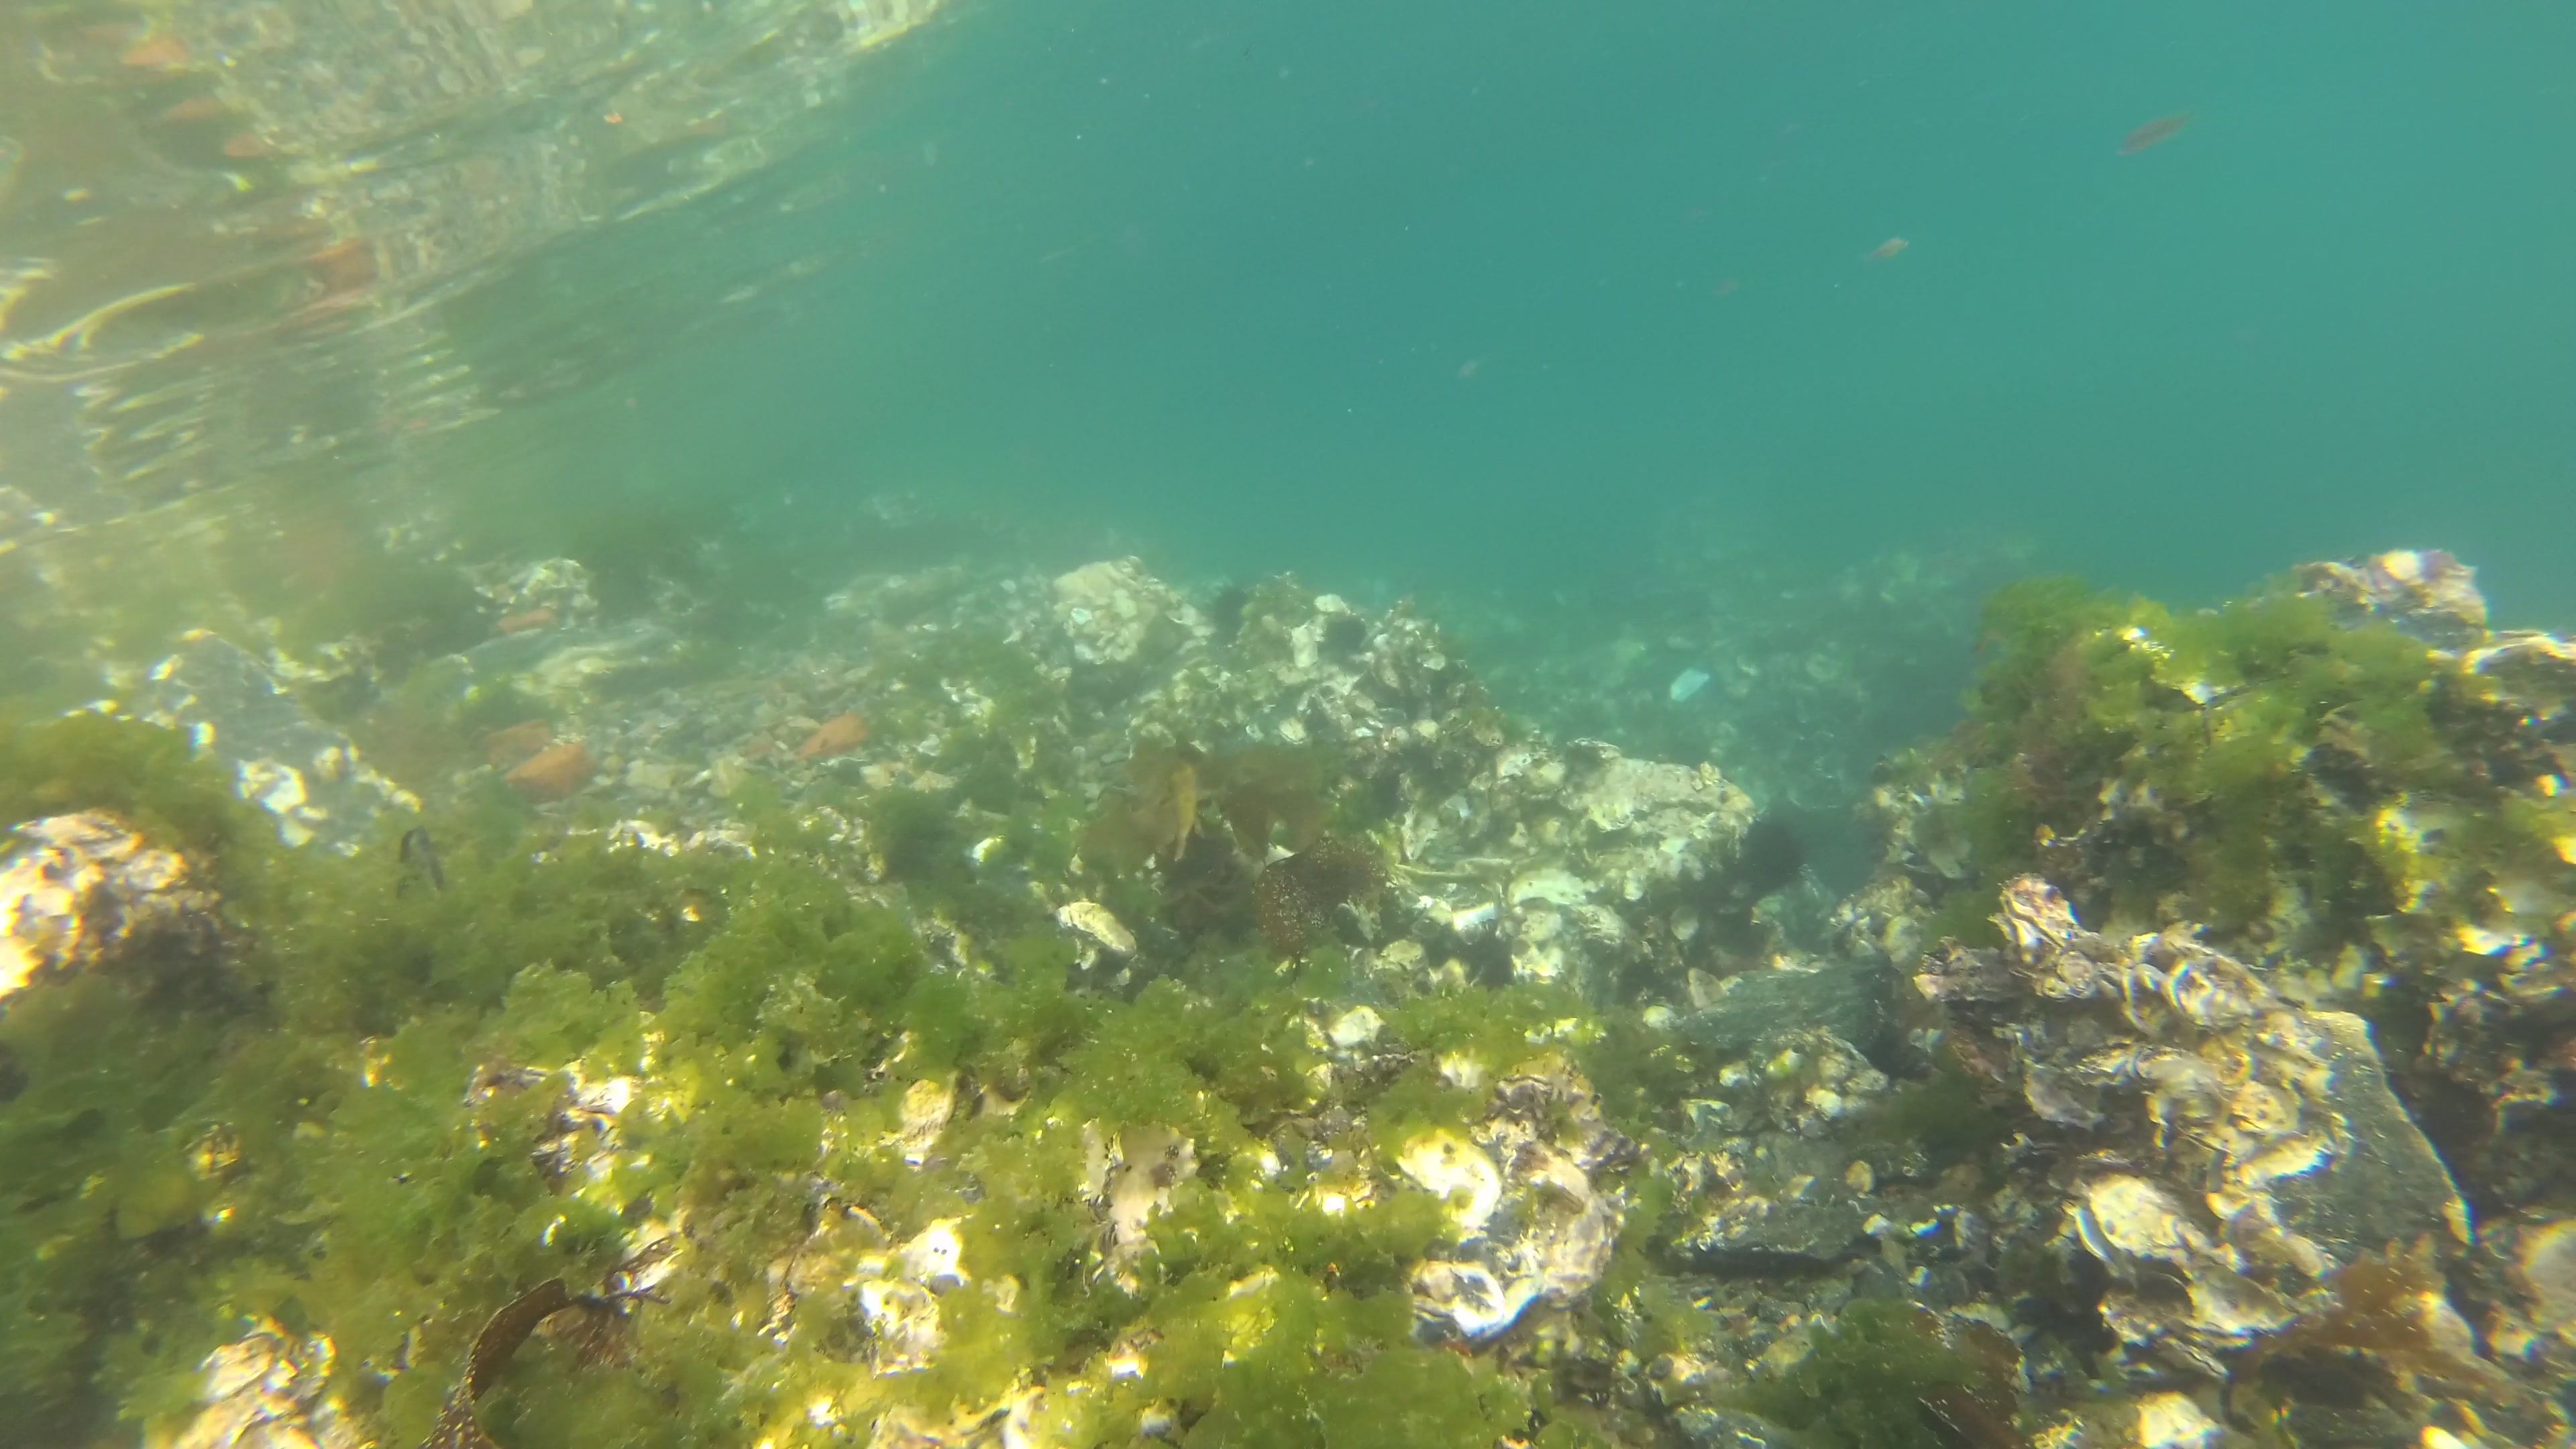echinus: (1743, 816, 1808, 888), (1453, 931, 1518, 1000), (1323, 610, 1371, 658), (1215, 589, 1249, 628)
